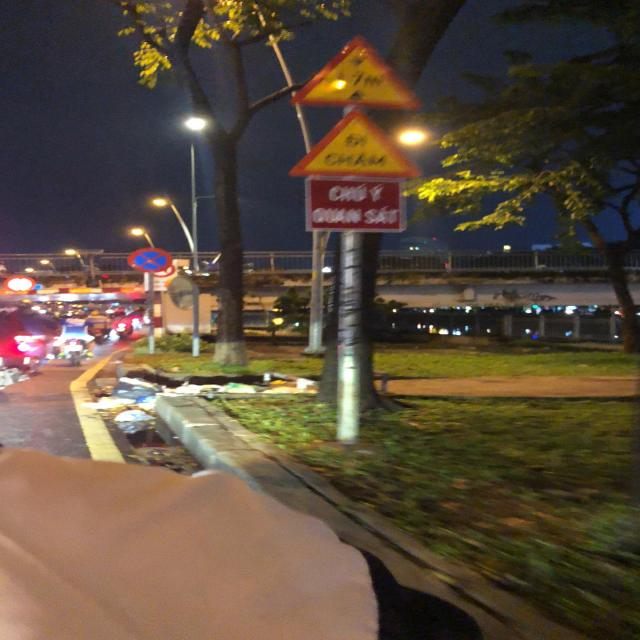Bien bao cam dung xe va do xe: (123, 245, 183, 274)
